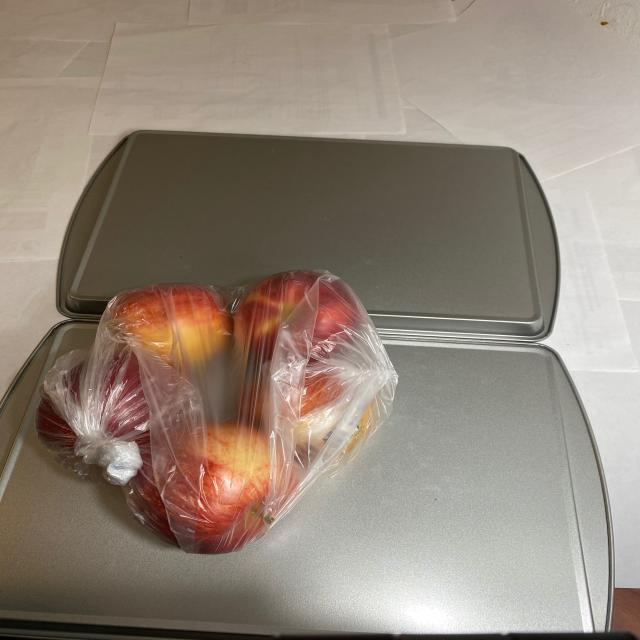apple: (31, 269, 397, 564)
